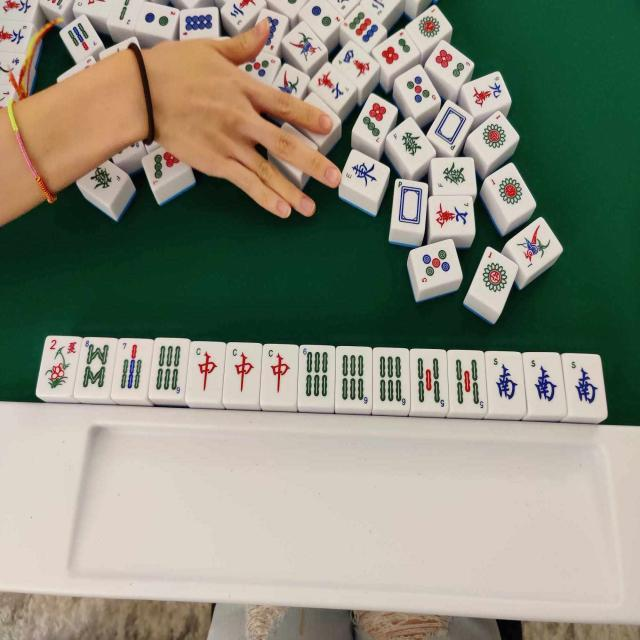bs2: (45, 337, 80, 393)
hdr: (265, 346, 296, 402), (228, 347, 258, 402), (192, 344, 222, 398)
hws: (526, 356, 560, 412), (568, 357, 600, 410), (490, 356, 520, 408)
sb5: (412, 352, 448, 410), (454, 354, 487, 412)
sb6: (300, 348, 334, 408), (374, 352, 409, 410), (338, 350, 372, 408), (155, 339, 187, 396)
sb7: (118, 339, 147, 394)
sb8: (79, 338, 111, 393)
